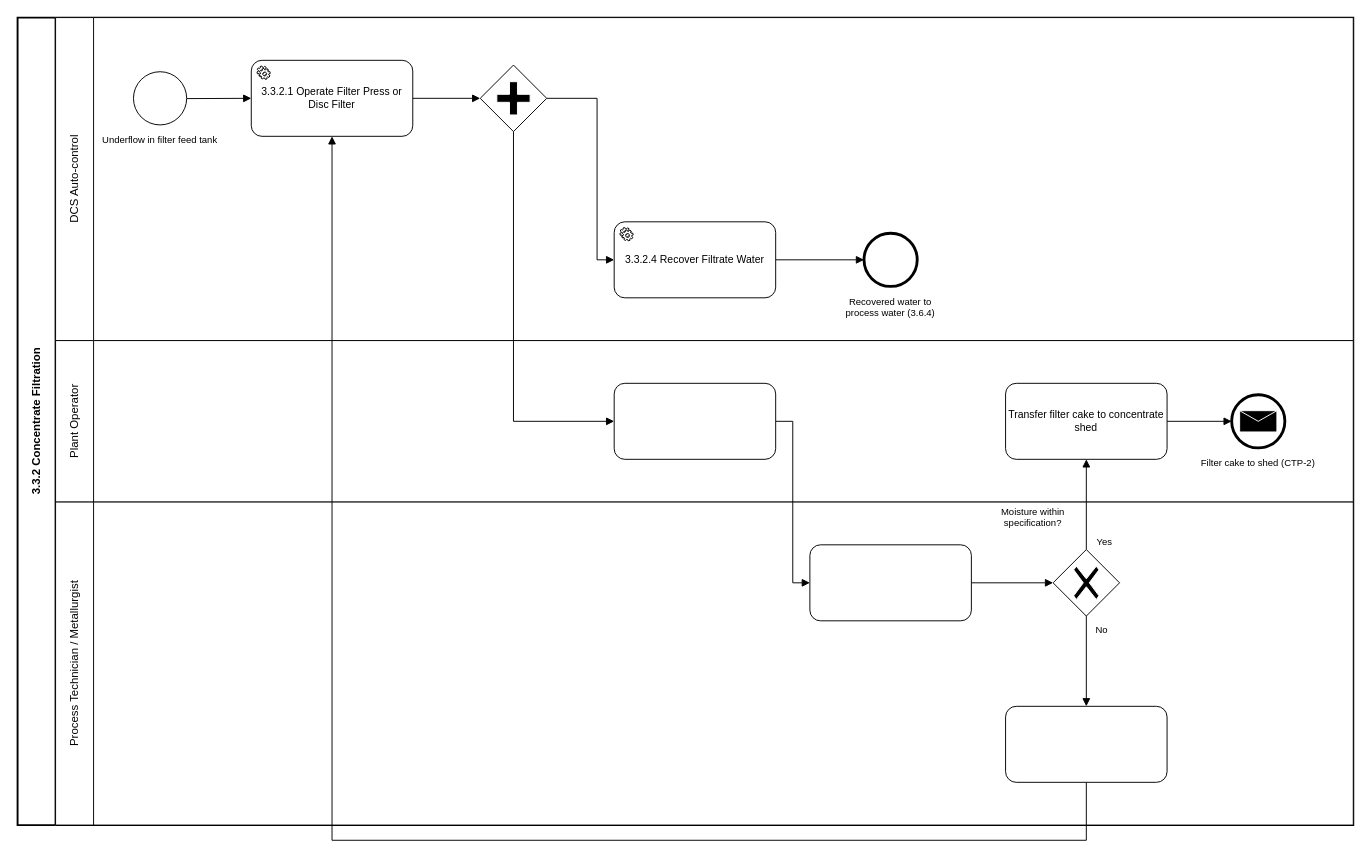
The diagram is 1370 pixels wide and 865 high, and some of its shapes have lost their labels. Here are the shapes that lost their labels. From the top down, the centre of each, then its label:
At point 694,420: "3.3.2.2 Discharge Filter Cake".
At point 890,582: "3.3.2.3 Verify Moisture Content".
At point 1086,743: "Adjust filter cycle, wash water or air; check underflow density".
